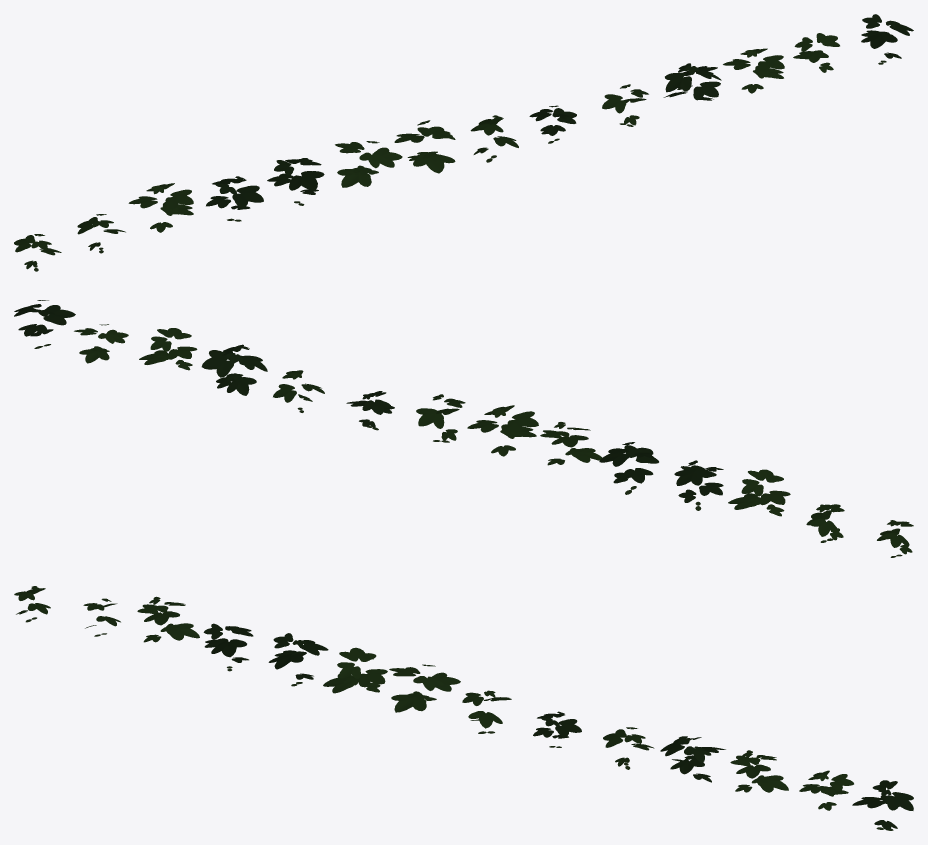
Rendered from ROW_16_SEG5_foliage.dae.
3 views of the same model, one above another, from view 1: azimuth 30°, elevation 25°; view 2: azimuth 150°, elevation 25°; view 3: azimuth 330°, elevation 25° (orthographic).
Visible parts, largest first — view 1: ROW_16_SEG5_foliage; view 2: ROW_16_SEG5_foliage; view 3: ROW_16_SEG5_foliage.
Part boxes in pixels (box(x1,y1,x2,y2)): ROW_16_SEG5_foliage: box(14, 14, 913, 271); ROW_16_SEG5_foliage: box(14, 300, 913, 557); ROW_16_SEG5_foliage: box(14, 586, 913, 830).
Bounding box in the file's own units: 4.18 × 0.316 × 0.2316.
